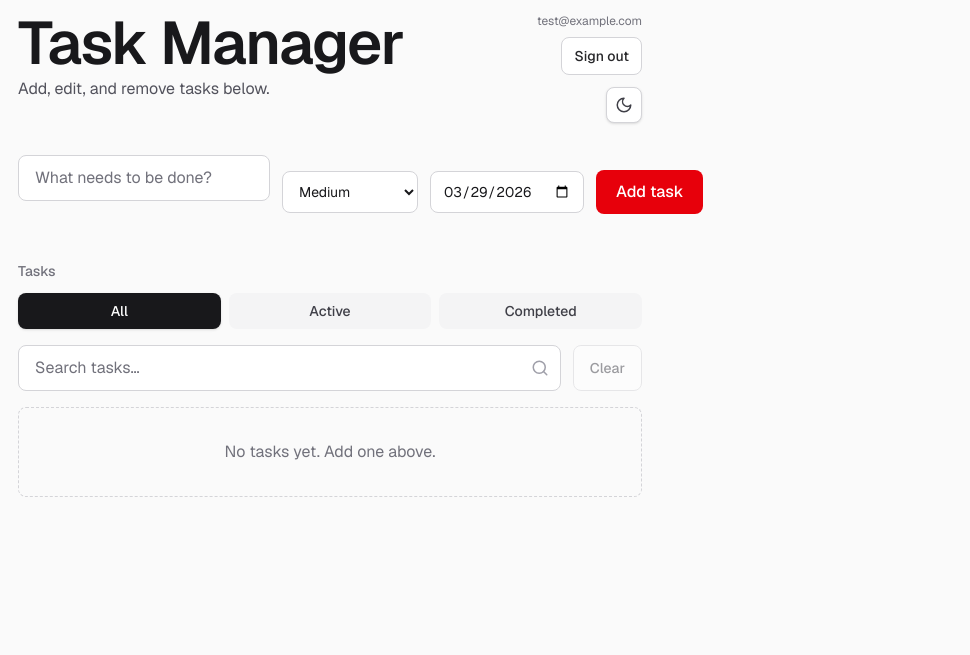
Test case: Home task manager › adds a task using Supabase API
Type "Buy milk" into the field named "Task title" at (144, 178), box x1=18 y1=155 x2=270 y2=201
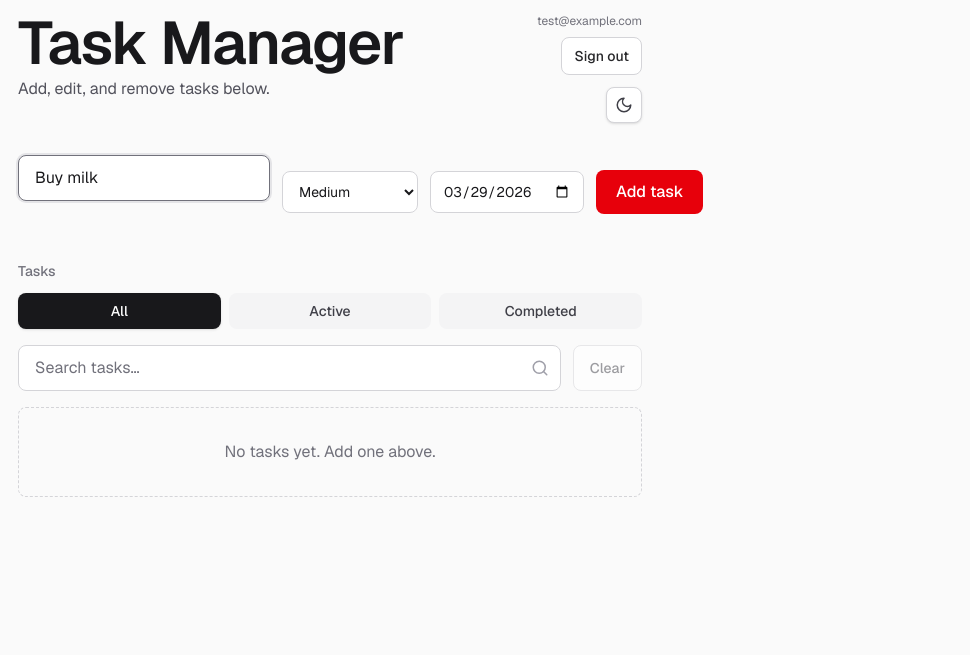
Click the button "Add task" at (650, 192), box x1=596 y1=170 x2=703 y2=214
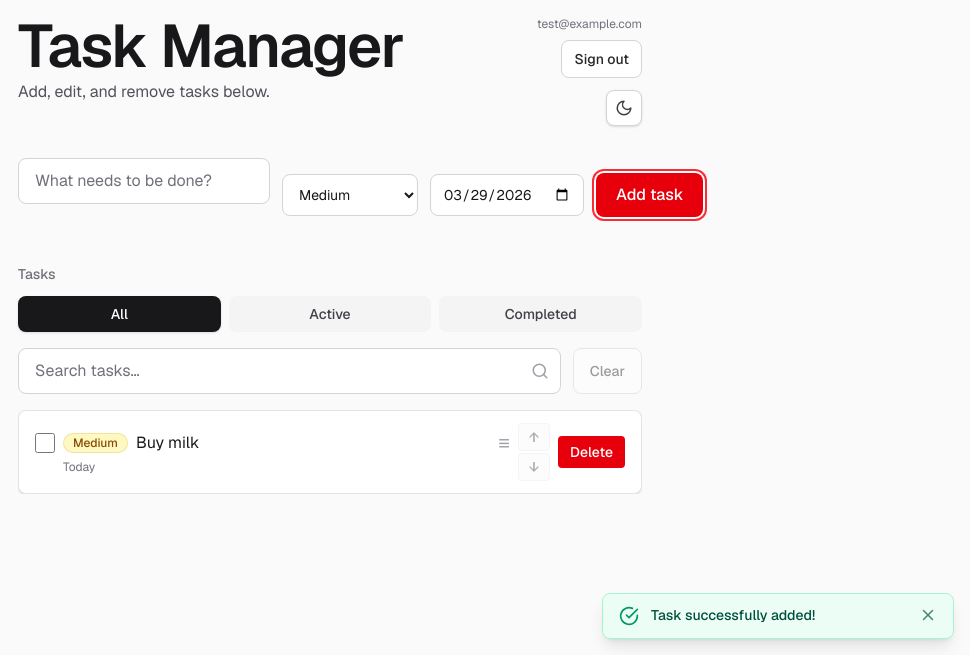
Check: the button "Buy milk" is shown, box x1=136 y1=432 x2=199 y2=453
Check: the text "Task successfully added!" is shown, box x1=651 y1=606 x2=815 y2=624
